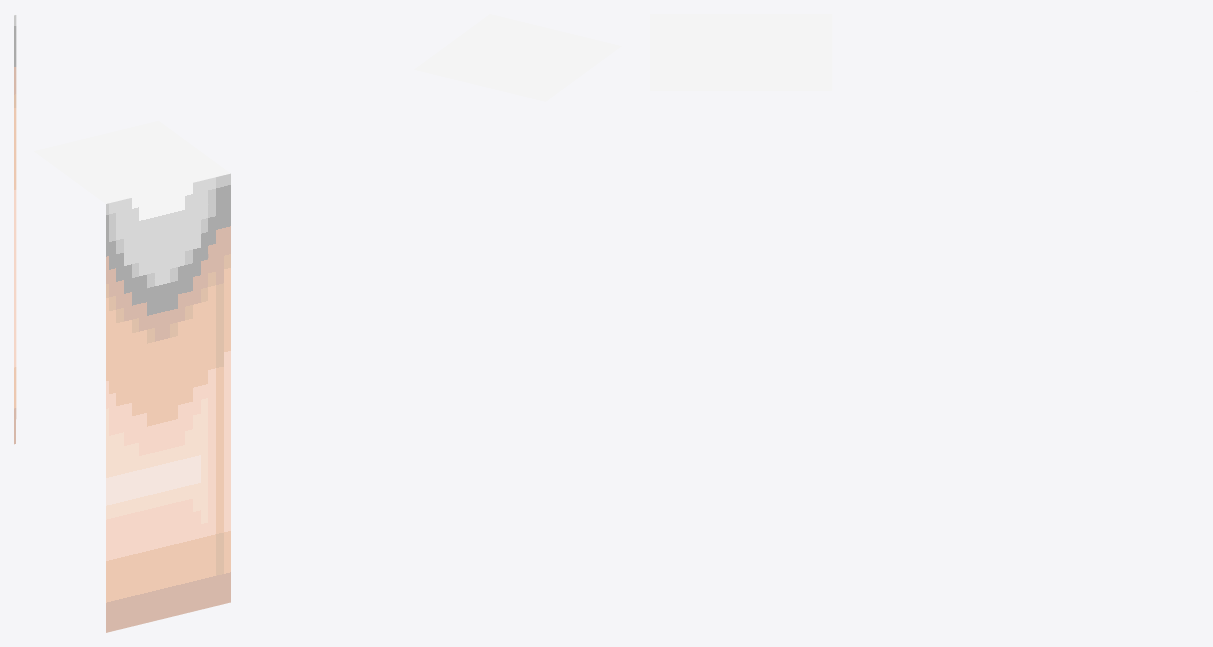
The picture shows the model from 3 angles, left to right: view 1: azimuth 30°, elevation 25°; view 2: azimuth 150°, elevation 25°; view 3: azimuth 270°, elevation 25°; orthographic projection. The views are drawn at different scales.
Bounding box in the file's own units: 0.5063 × 1.64 × 1.51.
1 material, 1 textured.
